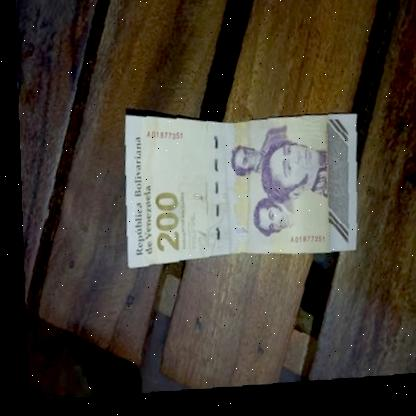two_hundred-front-vef: (112, 97, 364, 287)
